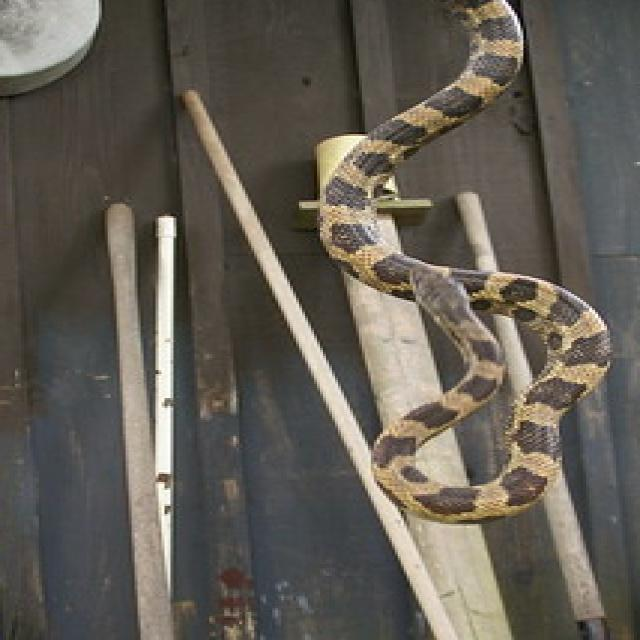snake: (308, 0, 616, 524)
